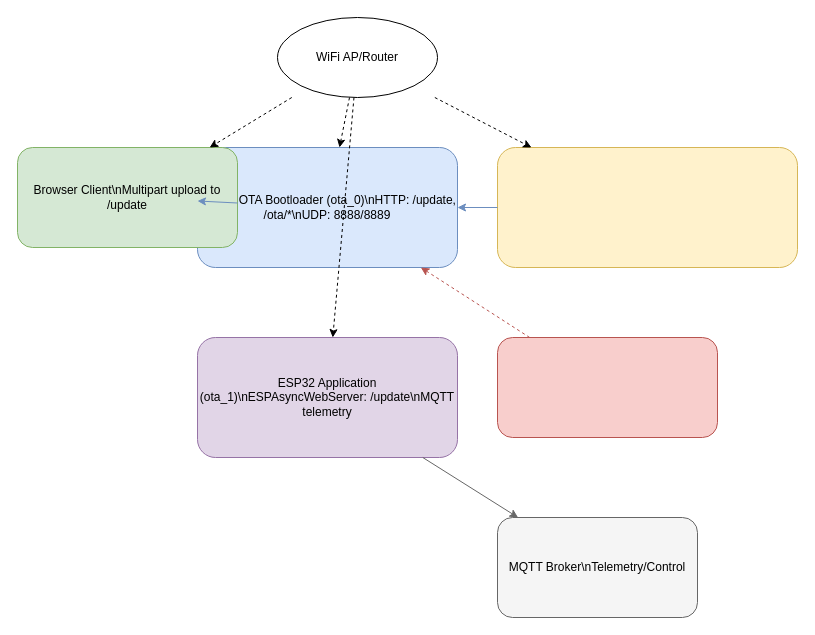
Image size: 815x635. Some labels were removed from this diagram. The centre of each missing label's shape, as x and y in pixels:
Backend Server\nPush API: /ota/begin, /ota/write, /ota/end: the point at 647,207
UDP Discovery\nRequest: 8888\nResponse: 8889: the point at 607,387
